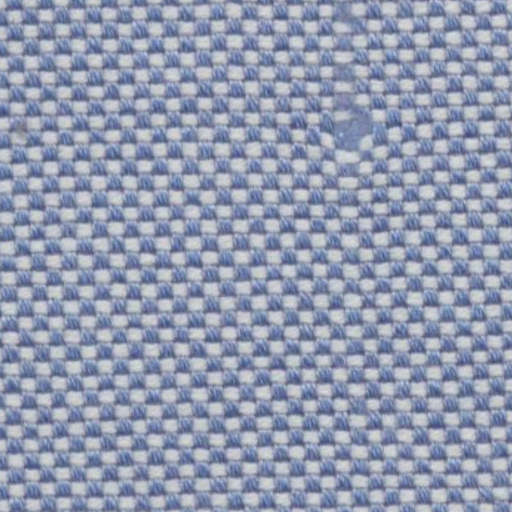MianQiu: (306, 110, 402, 166)
